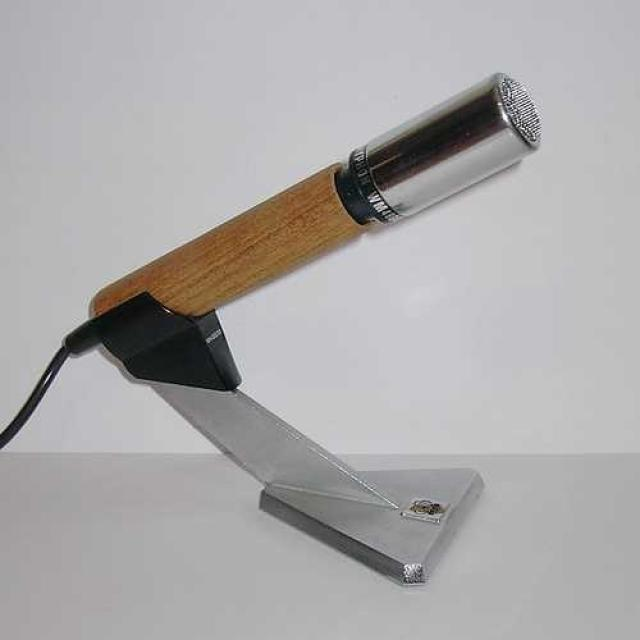microphone: (76, 47, 594, 424)
